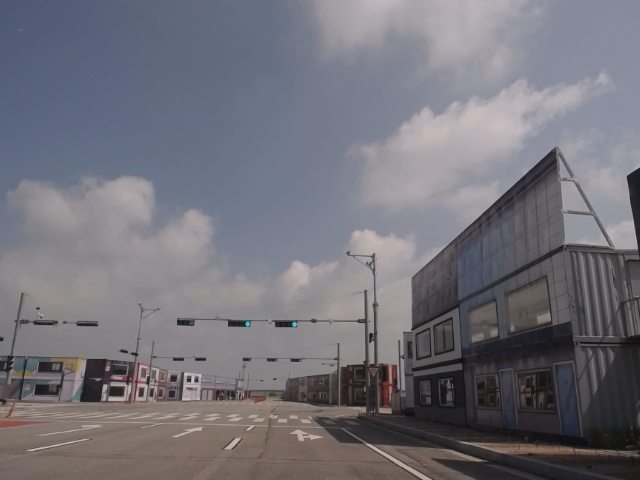straight_green_4: (228, 319, 251, 328), (276, 320, 298, 327)
